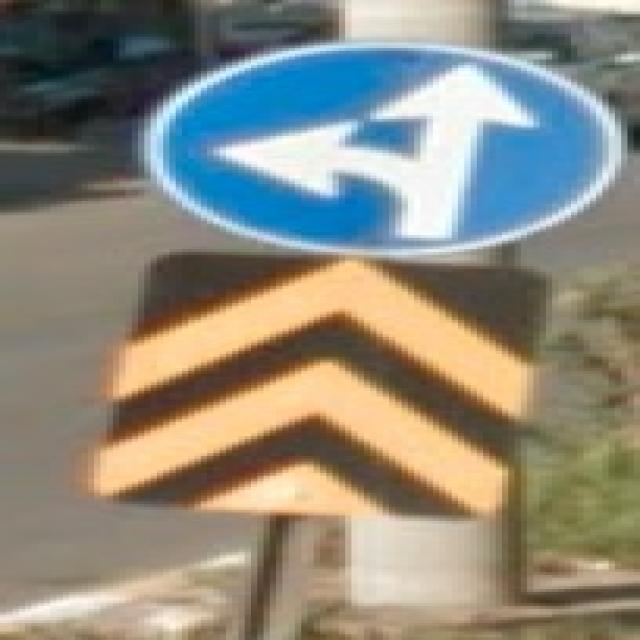Straight or Left: (145, 43, 622, 256)
